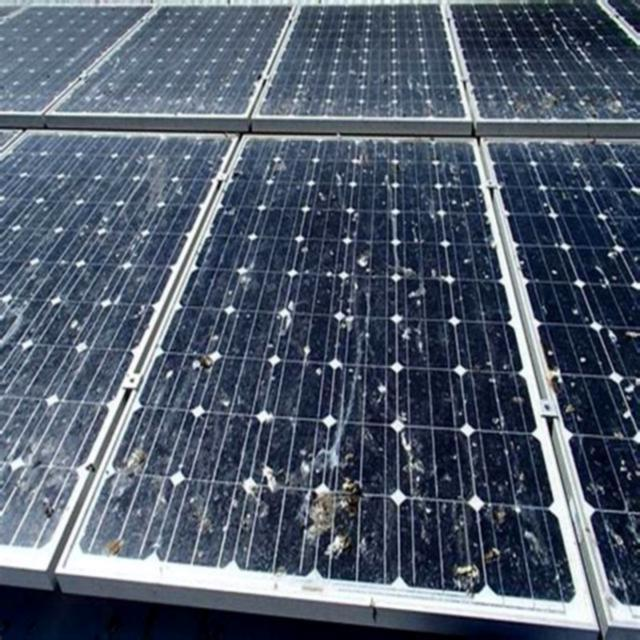soiled: (0, 140, 637, 627), (0, 1, 638, 135)
